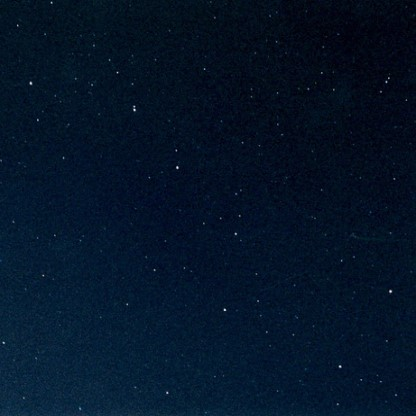Ursa Major: (163, 154, 193, 181), (222, 220, 248, 247), (212, 295, 237, 323), (379, 279, 402, 307), (124, 96, 149, 121), (20, 72, 39, 95), (330, 357, 350, 374)
